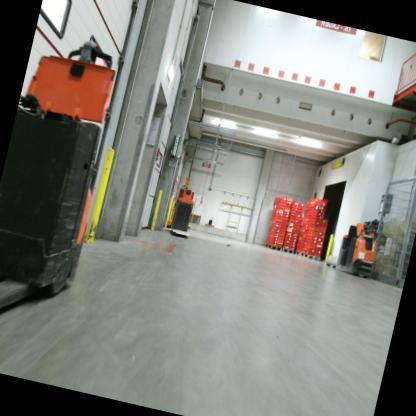pallet: (265, 243, 283, 252), (300, 251, 315, 261), (281, 247, 295, 255), (313, 254, 321, 261), (296, 250, 301, 257)
pallet_truck: (0, 19, 140, 360), (324, 206, 388, 280), (164, 180, 203, 241)
